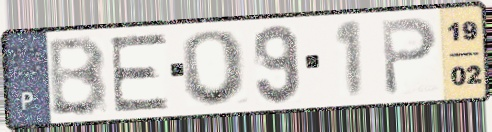1: (332, 18, 364, 102)
9: (251, 22, 304, 106)
B: (48, 34, 111, 118)
E: (107, 31, 171, 115)
O: (180, 28, 250, 108)
P: (378, 15, 440, 98)
